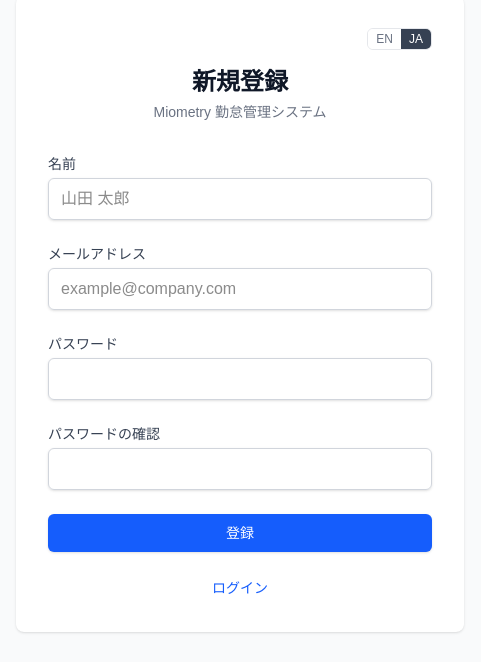
Test: Signup page › shows password mismatch error on blur
Type "Password1!" into the password field labelled "パスワード" at (240, 379), box [48, 358, 432, 400]
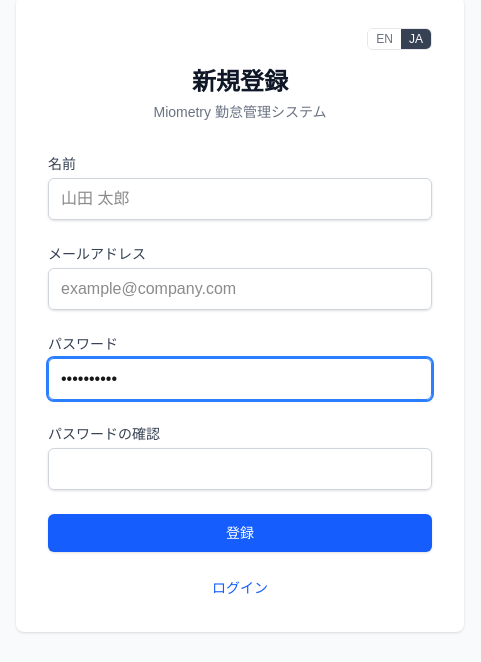
Type "Different1!" into the password field labelled "パスワードの確認" at (240, 469), box [48, 448, 432, 490]
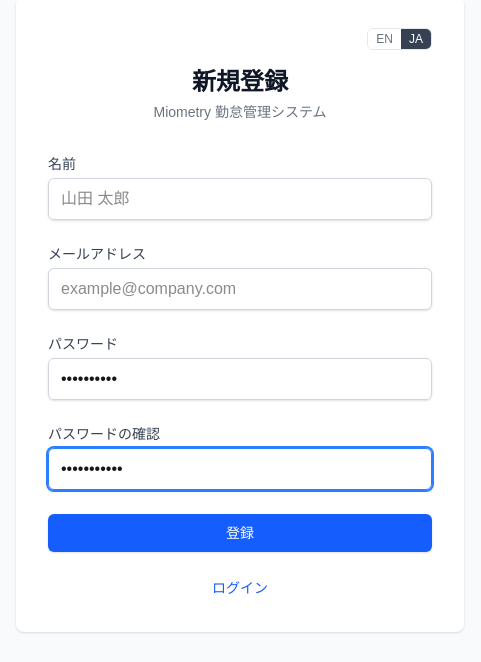
Press Tab
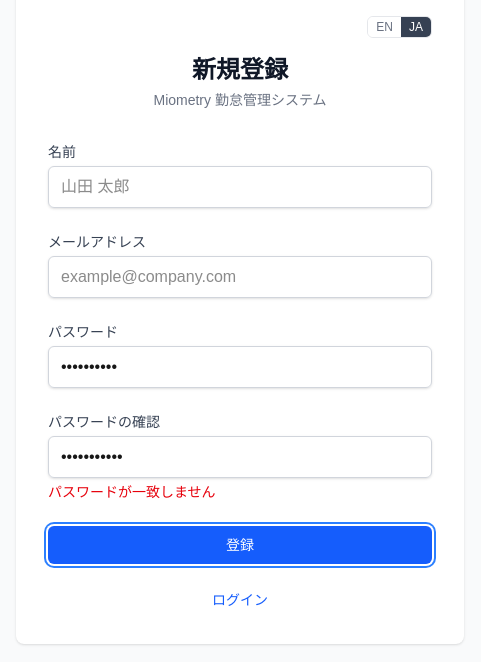
Check: the text "パスワードが一致しません" is shown, box [48, 484, 216, 500]
